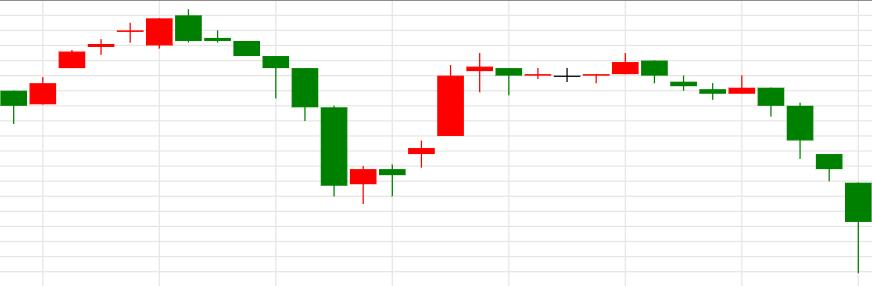hammer_rise: (641, 60, 872, 274)
